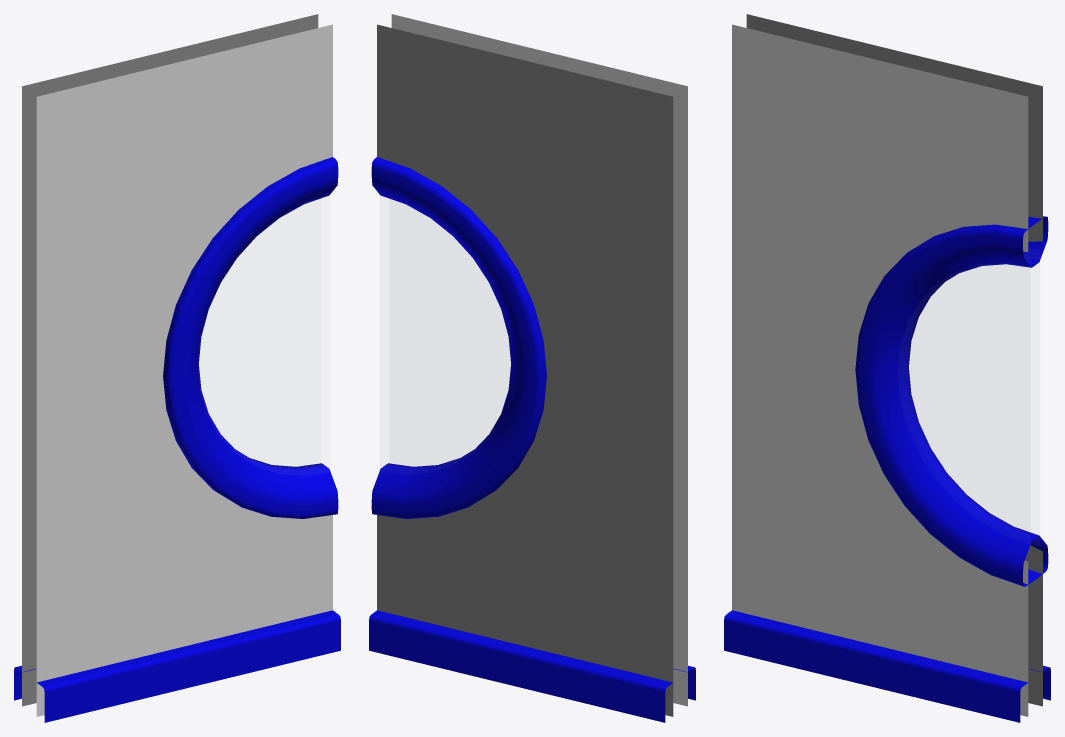
The model's file is HalfVertWindowEnd.fbx.
3 views of the same model, side by side, from view 1: azimuth 30°, elevation 25°; view 2: azimuth 150°, elevation 25°; view 3: azimuth 330°, elevation 25° (orthographic).
Visible parts, largest first — view 1: Wall, Trim (×2), Glass; view 2: Wall, Trim (×2), Glass; view 3: Wall, Trim (×2), Glass.
Boxes of the visible parts, bbox=[...] form: Wall: bbox=[22, 14, 332, 716]; Trim (×2): bbox=[14, 157, 340, 722]; Glass: bbox=[199, 199, 320, 465]; Wall: bbox=[377, 14, 687, 716]; Trim (×2): bbox=[369, 157, 695, 722]; Glass: bbox=[390, 199, 510, 465]; Wall: bbox=[732, 14, 1042, 716]; Trim (×2): bbox=[724, 216, 1050, 722]; Glass: bbox=[909, 256, 1029, 531].
Size of the model in its own units: 6 by 12 by 1.07.
